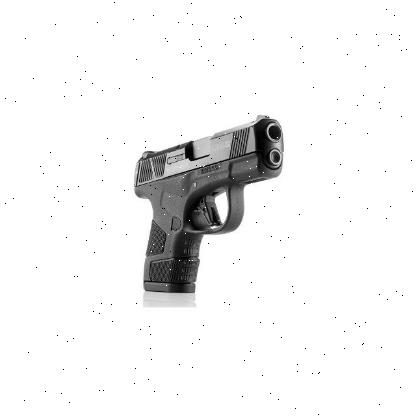gun: (133, 113, 285, 293)
